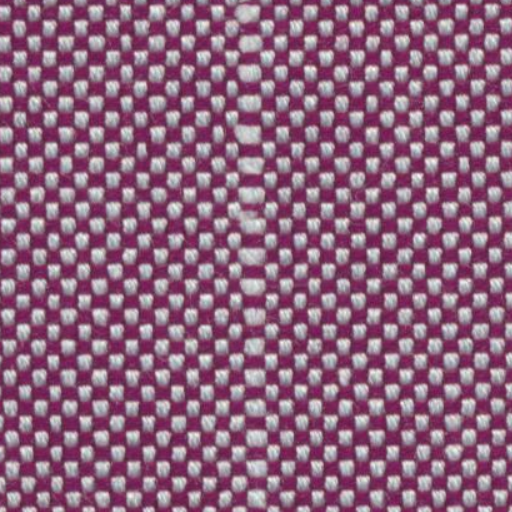DaiSha: (218, 6, 296, 494)
